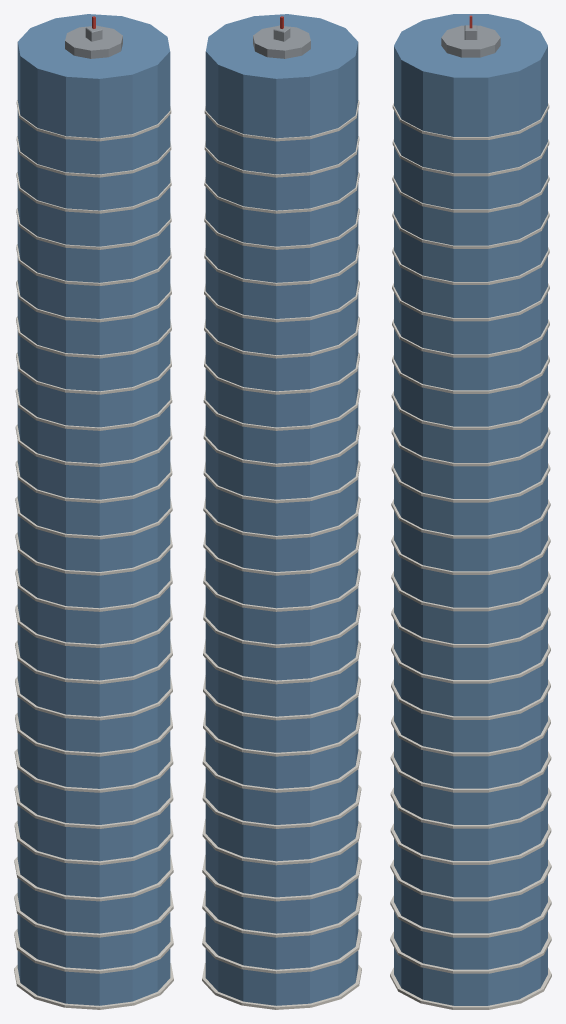
The model's file is tower_slat_h180.glb.
The picture shows the model from 3 angles, left to right: view 1: azimuth 30°, elevation 25°; view 2: azimuth 150°, elevation 25°; view 3: azimuth 270°, elevation 25°; orthographic projection.
Visible parts, largest first — view 1: core, crown, slat, slat.001, slat.002, slat.003, slat.004, slat.005, slat.006, slat.007, slat.008, slat.009 (+15 smaller); view 2: core, crown, slat, slat.001, slat.002, slat.003, slat.004, slat.005, slat.006, slat.007, slat.008, slat.009 (+15 smaller); view 3: core, crown, slat.001, slat.002, slat, slat.003, slat.006, slat.004, slat.005, slat.007, slat.008, slat.011 (+15 smaller).
Boxes of the visible parts, x1=… form: core: x1=17, y1=14, x2=170, y2=1005; crown: x1=65, y1=25, x2=122, y2=58; slat: x1=14, y1=963, x2=173, y2=1009; slat.001: x1=14, y1=927, x2=173, y2=973; slat.002: x1=14, y1=891, x2=173, y2=937; slat.003: x1=14, y1=855, x2=173, y2=901; slat.004: x1=14, y1=819, x2=173, y2=865; slat.005: x1=14, y1=783, x2=173, y2=828; slat.006: x1=14, y1=746, x2=173, y2=792; slat.007: x1=15, y1=711, x2=172, y2=756; slat.008: x1=15, y1=675, x2=172, y2=720; slat.009: x1=15, y1=639, x2=172, y2=684; core: x1=205, y1=14, x2=358, y2=1005; crown: x1=253, y1=25, x2=310, y2=58; slat: x1=202, y1=963, x2=361, y2=1009; slat.001: x1=202, y1=927, x2=361, y2=973; slat.002: x1=202, y1=891, x2=361, y2=937; slat.003: x1=202, y1=855, x2=361, y2=901; slat.004: x1=202, y1=819, x2=361, y2=865; slat.005: x1=202, y1=783, x2=361, y2=828; slat.006: x1=202, y1=746, x2=361, y2=792; slat.007: x1=203, y1=711, x2=360, y2=756; slat.008: x1=203, y1=675, x2=360, y2=720; slat.009: x1=203, y1=639, x2=360, y2=684; core: x1=394, y1=14, x2=547, y2=1005; crown: x1=441, y1=25, x2=500, y2=57; slat.001: x1=390, y1=931, x2=551, y2=973; slat.002: x1=390, y1=895, x2=551, y2=937; slat: x1=390, y1=967, x2=551, y2=1009; slat.003: x1=390, y1=859, x2=551, y2=901; slat.006: x1=390, y1=751, x2=551, y2=792; slat.004: x1=390, y1=823, x2=551, y2=864; slat.005: x1=390, y1=787, x2=551, y2=828; slat.007: x1=391, y1=715, x2=550, y2=756; slat.008: x1=391, y1=679, x2=550, y2=719; slat.011: x1=391, y1=571, x2=550, y2=611.
Bounding box in the file's own units: 27.63 × 186 × 28.34.
